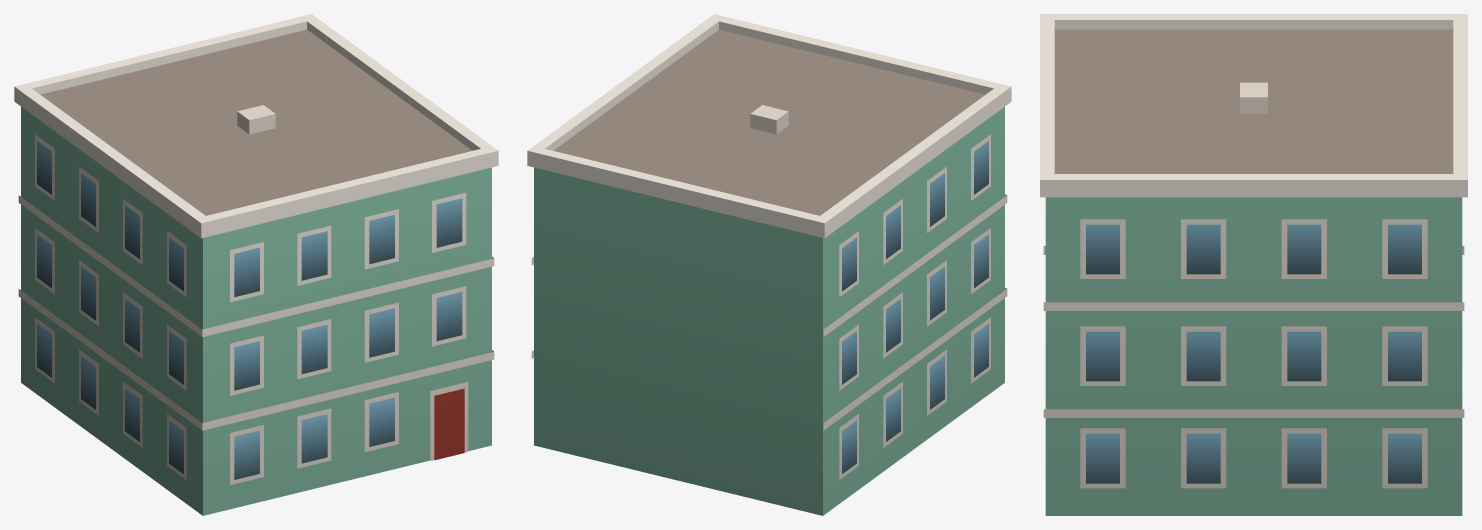
File: vee_rightb5_far.glb
3 views of the same model, side by side, from view 1: azimuth 30°, elevation 25°; view 2: azimuth 150°, elevation 25°; view 3: azimuth 270°, elevation 25° (orthographic). The views are drawn at different scales.
Parts seen in each view (by area): view 1: vee_rightb5_far; view 2: vee_rightb5_far; view 3: vee_rightb5_far.
Boxes of the visible parts, left/top/right/bottom form: vee_rightb5_far: left=14, top=14, right=498, bottom=515; vee_rightb5_far: left=527, top=14, right=1011, bottom=515; vee_rightb5_far: left=1040, top=14, right=1467, bottom=515.
Bounding box in the file's own units: 11.32 × 10.97 × 12.32.
Materials: 1 (1 with a texture image).
